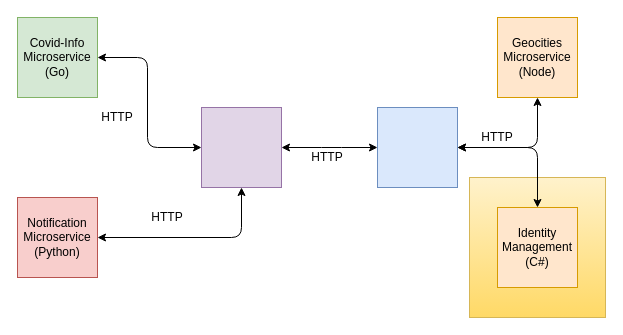
Image size: 623x335. Some labels were removed from this diagram. Here are the shapes that lost their labels. From the top down, the centre of each, then its label:
At point (241, 147): "UI (React)".
At point (417, 147): "Gateway Management (C#)".
